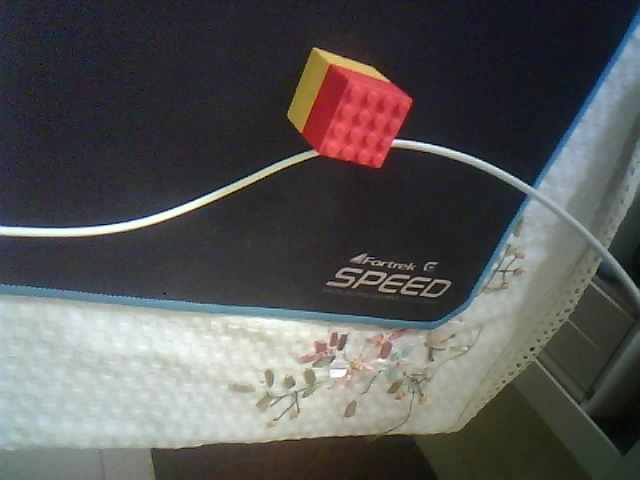lego: (286, 46, 413, 171)
